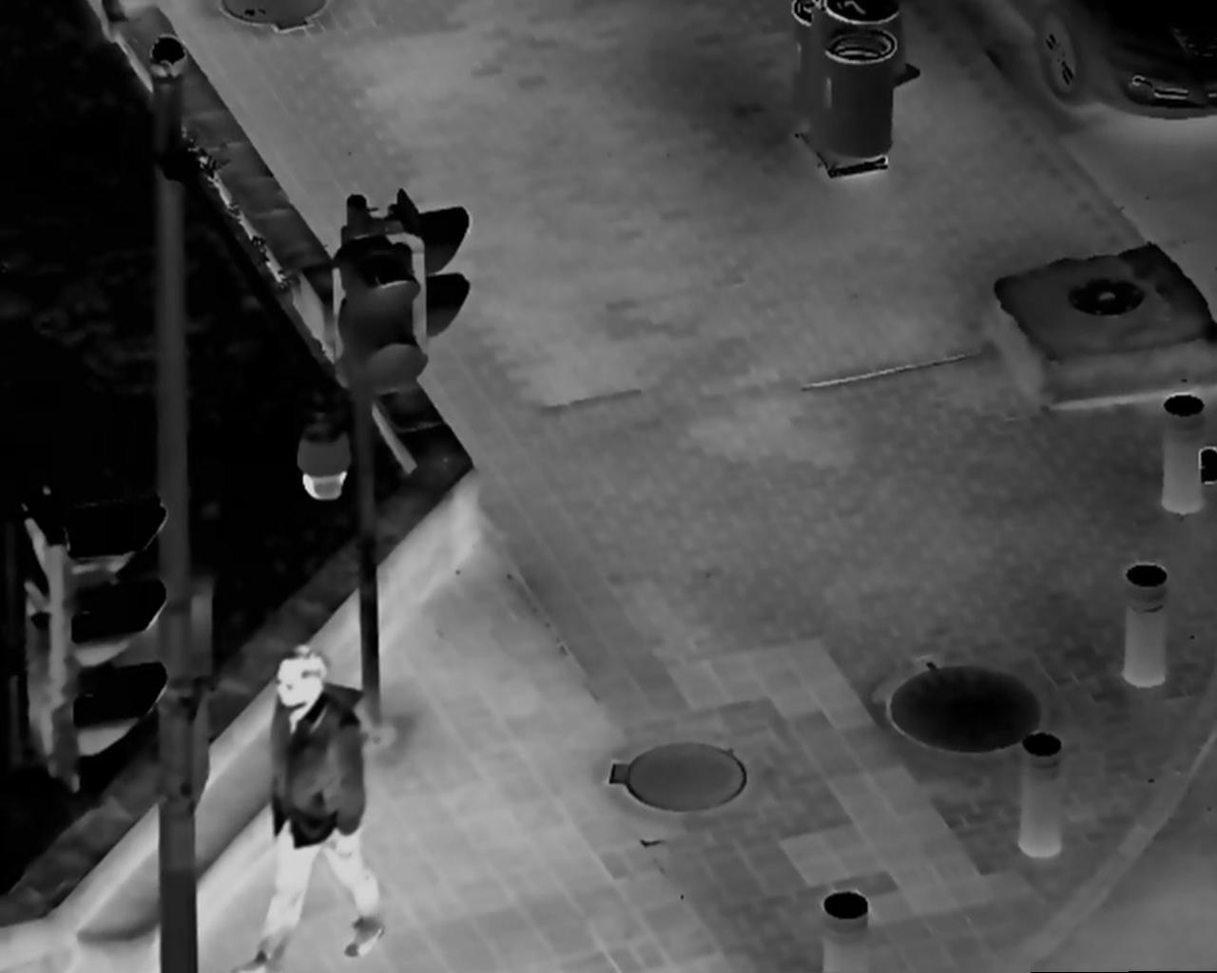person: (234, 640, 388, 973)
